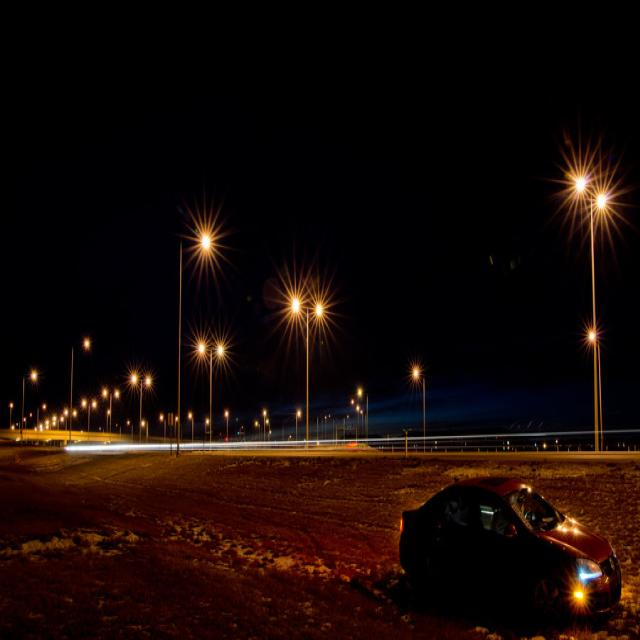Car: (349, 412, 610, 640)
